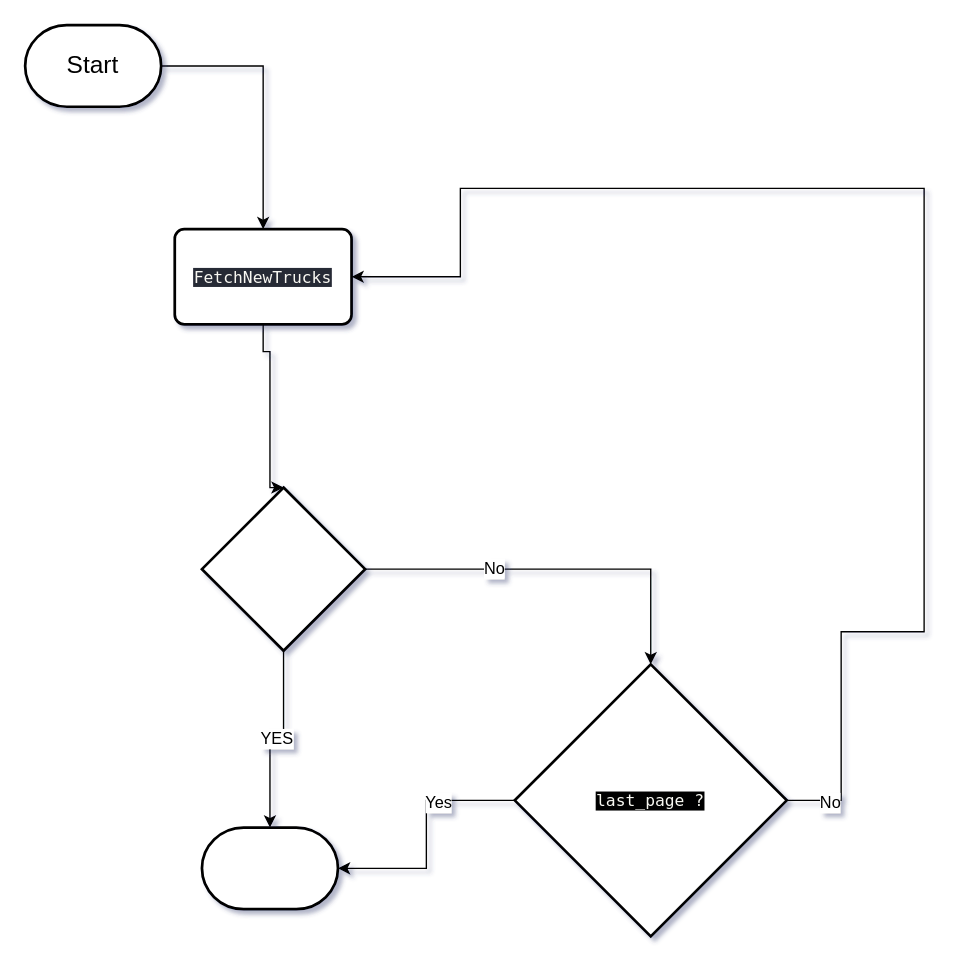
Image size: 967x968. Some labels were removed from this diagram. Each missing label, with the box of its shape:
End: (200, 826, 339, 910)
failure?: (200, 486, 366, 651)
